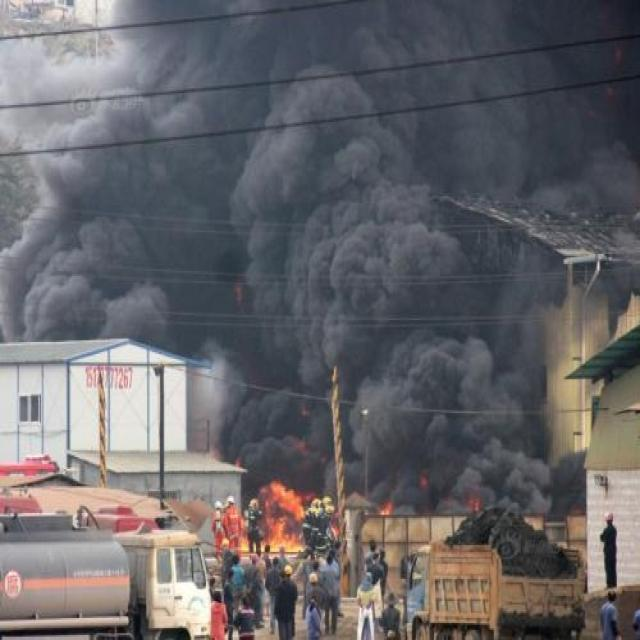Fire: (234, 482, 308, 556)
Smoke: (1, 2, 640, 514)
